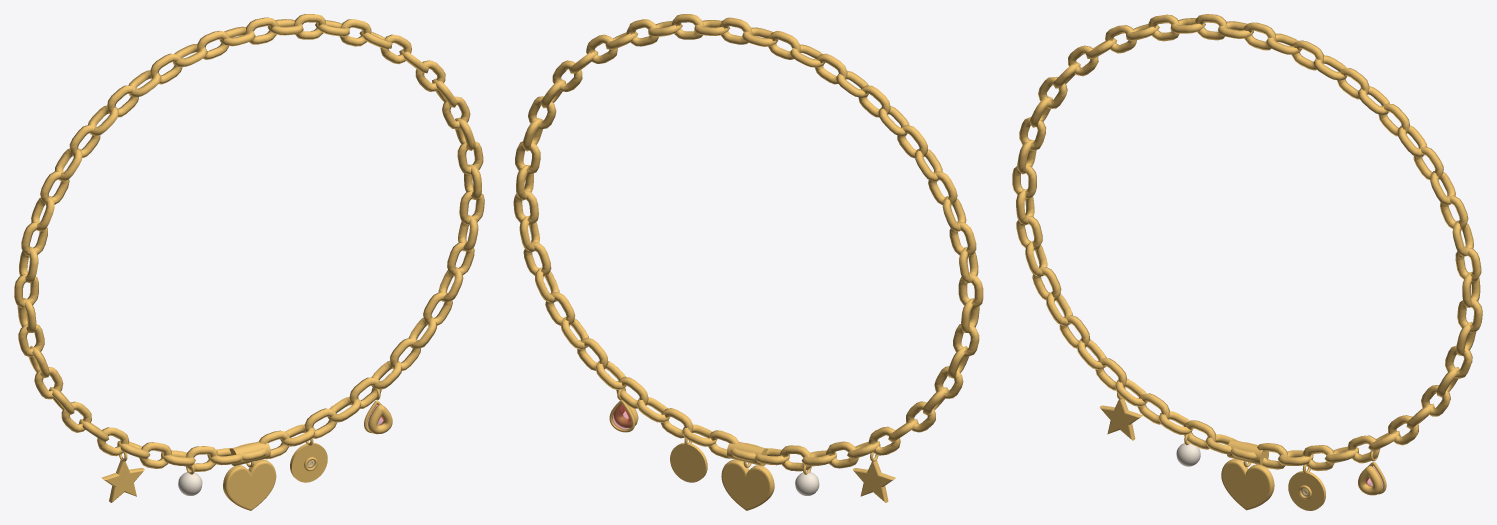
File: charm-bracelet.glb
3 renders of one model, left to right at view 1: azimuth 30°, elevation 25°; view 2: azimuth 150°, elevation 25°; view 3: azimuth 330°, elevation 25°, orthographic.
Parts seen in each view (by area): view 1: metal; view 2: metal; view 3: metal.
Boxes of the visible parts, left/top/right/bottom form: metal: left=14, top=14, right=484, bottom=510; metal: left=513, top=14, right=983, bottom=510; metal: left=1012, top=14, right=1482, bottom=510.
Size of the model in its own units: 7.05 by 7.01 by 0.37.
